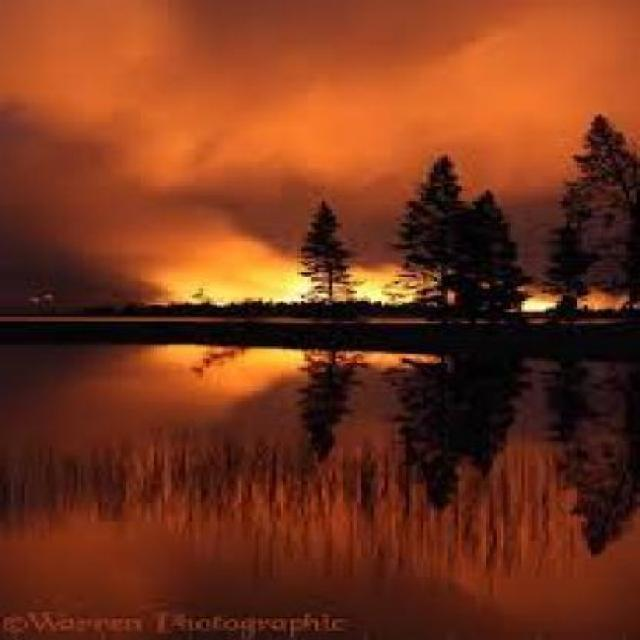Fire: (128, 221, 442, 383), (448, 253, 640, 362)
